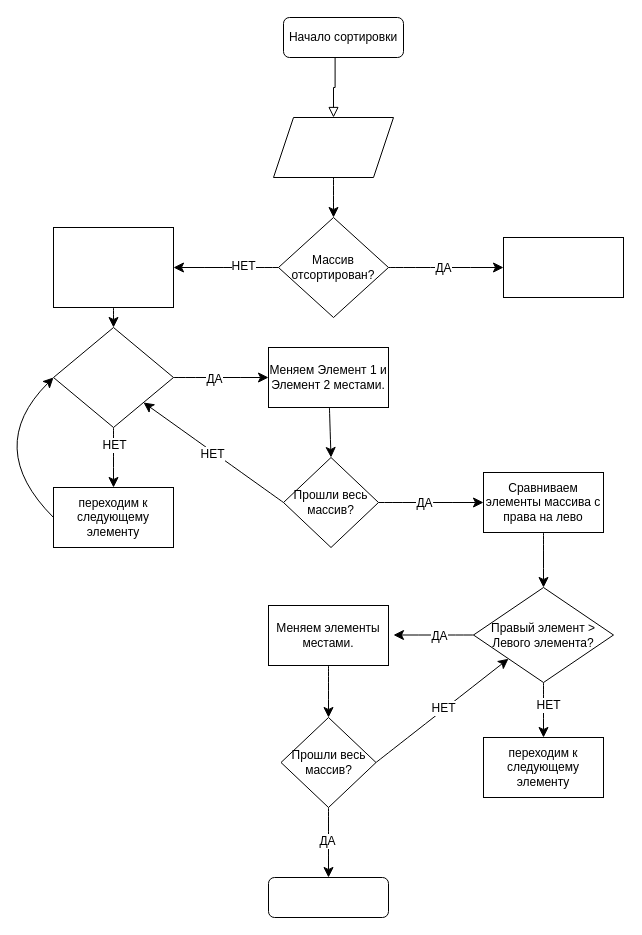
Image size: 642x935. Some labels were removed from this diagram. Each missing label, with the centre of its shape:
"Левый элемент> Правого элемента?" goes at (x=113, y=377).
"Массив отсортирован" goes at (x=328, y=897).
"Получение массива для сортировки" goes at (x=333, y=147).
"Прекратить сортировку" goes at (x=563, y=267).
"Сравниваем элементы массива слева на право." goes at (x=113, y=267).
